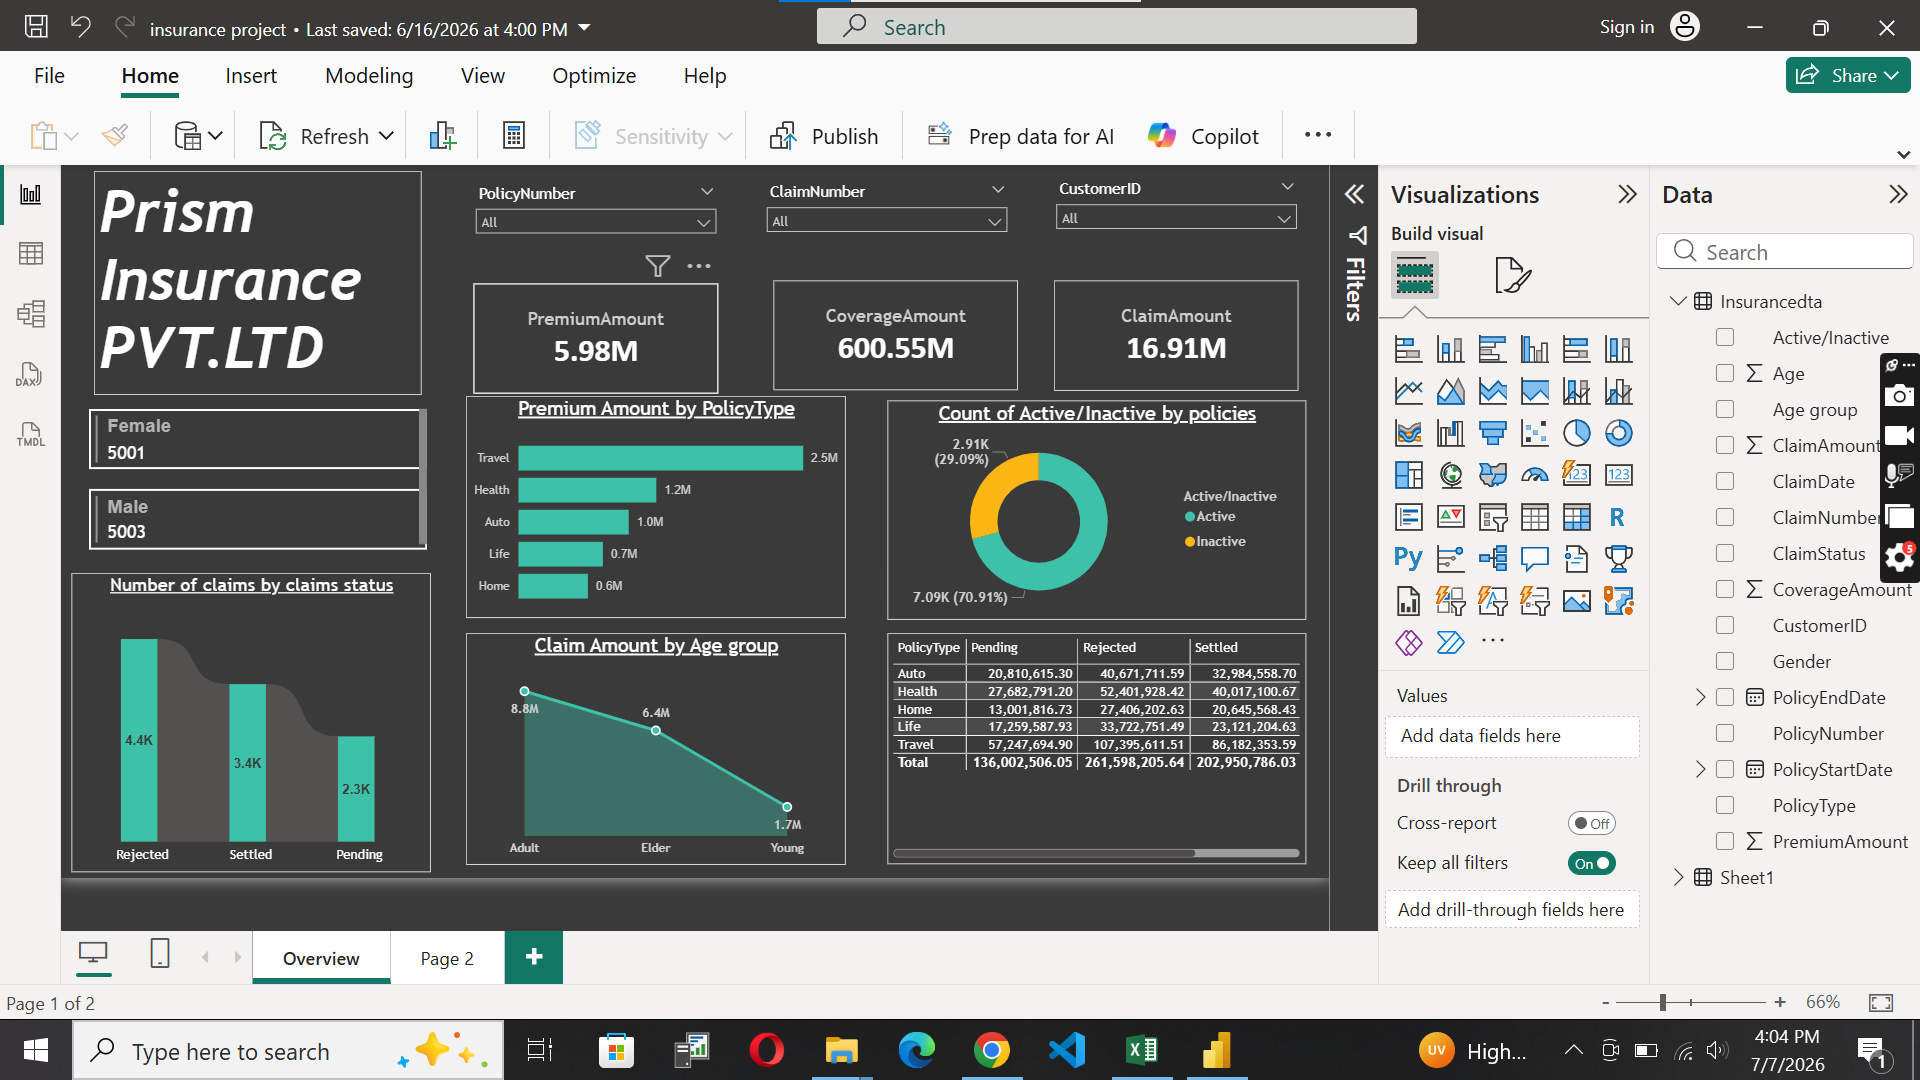

Layout of this report page (visuals, bound fields, positions):
{"tool":"powerbi","page":{"name":"Page 1","canvas":[1280,720],"ordinal":0},"visuals":[{"type":"slicer","fields":{"Values":["Insurancedta.PolicyNumber"]},"box":[408.8,14.3,262.5,98.6],"z":0},{"type":"slicer","fields":{"Values":["Insurancedta.ClaimNumber"]},"box":[703.1,12.7,262.5,98.6],"z":1000},{"type":"slicer","fields":{"Values":["Insurancedta.CustomerID"]},"box":[994.1,9.5,262.5,98.6],"z":2000},{"type":"textbox","box":[33.4,6.4,330.8,225.9],"z":3000},{"type":"cardVisual","fields":{"Data":["Sum(Insurancedta.PremiumAmount)"]},"box":[416.7,119.3,246.5,111.3],"z":4000},{"type":"cardVisual","fields":{"Data":["Sum(Insurancedta.ClaimAmount)"]},"box":[1002.1,116.1,246.5,111.3],"z":5000},{"type":"cardVisual","fields":{"Data":["Sum(Insurancedta.CoverageAmount)"]},"box":[719.2,116.6,246.8,110.5],"z":6000},{"type":"multiRowCard","fields":{"Values":["Insurancedta.Gender","CountNonNull(Insurancedta.Gender)"]},"box":[22.3,240.2,351.5,159.1],"z":7000},{"type":"ribbonChart","title":"Number of claims by claims status ","fields":{"Category":["Insurancedta.ClaimStatus"],"Y":["CountNonNull(Insurancedta.ClaimStatus)"]},"box":[11.1,412,362.7,302.2],"z":8000},{"type":"barChart","title":"Premium Amount by PolicyType","fields":{"Category":["Insurancedta.PolicyType"],"Y":["Sum(Insurancedta.PremiumAmount)"]},"box":[408.8,233.8,383.3,224.3],"z":9000},{"type":"lineChart","title":"Claim Amount by Age group","fields":{"Category":["Insurancedta.Age group"],"Y":["Sum(Insurancedta.ClaimAmount)"]},"box":[408.8,472.4,383.3,233.8],"z":10000},{"type":"donutChart","title":"Count of Active/Inactive by policies","fields":{"Category":["Insurancedta.Active/Inactive"],"Y":["CountNonNull(Insurancedta.Active/Inactive)"]},"box":[834.3,237.7,422.5,221.1],"z":11000},{"type":"pivotTable","fields":{"Values":["Sum(Insurancedta.CoverageAmount)"],"Rows":["Insurancedta.PolicyType"],"Columns":["Insurancedta.ClaimStatus"]},"box":[834.3,472.4,422.5,233.2],"z":12000}]}

Visuals, with their boxes on the page's 1280x720 design canvas (x1, y1, x2, y2). These are canvas units, not pixel positions in the 1920x1080 screenshot, which may show the page scaled, cropped or inside an application window:
slicer - Insurancedta.PolicyNumber: x1=409, y1=14, x2=671, y2=113
slicer - Insurancedta.ClaimNumber: x1=703, y1=13, x2=966, y2=111
slicer - Insurancedta.CustomerID: x1=994, y1=10, x2=1257, y2=108
textbox: x1=33, y1=6, x2=364, y2=232
cardVisual - Sum(Insurancedta.PremiumAmount): x1=417, y1=119, x2=663, y2=231
cardVisual - Sum(Insurancedta.ClaimAmount): x1=1002, y1=116, x2=1249, y2=227
cardVisual - Sum(Insurancedta.CoverageAmount): x1=719, y1=117, x2=966, y2=227
multiRowCard - Insurancedta.Gender x CountNonNull(Insurancedta.Gender): x1=22, y1=240, x2=374, y2=399
"Number of claims by claims status " ribbonChart: x1=11, y1=412, x2=374, y2=714
"Premium Amount by PolicyType" barChart: x1=409, y1=234, x2=792, y2=458
"Claim Amount by Age group" lineChart: x1=409, y1=472, x2=792, y2=706
"Count of Active/Inactive by policies" donutChart: x1=834, y1=238, x2=1257, y2=459
pivotTable - Sum(Insurancedta.CoverageAmount) x Insurancedta.PolicyType: x1=834, y1=472, x2=1257, y2=706
